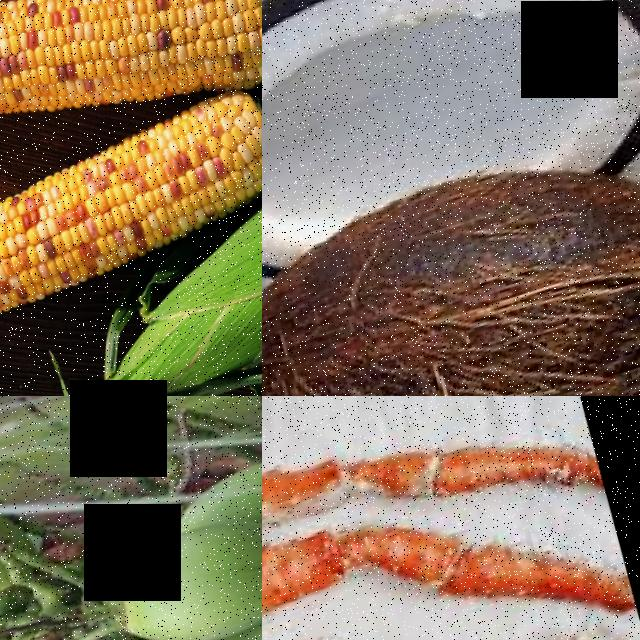coconut: (262, 116, 640, 396), (262, 0, 640, 280), (93, 494, 262, 640)
corn: (57, 83, 262, 272), (67, 0, 262, 134), (0, 173, 93, 345), (0, 0, 100, 147)
crab: (370, 472, 638, 640), (262, 406, 440, 636), (262, 515, 389, 640)
